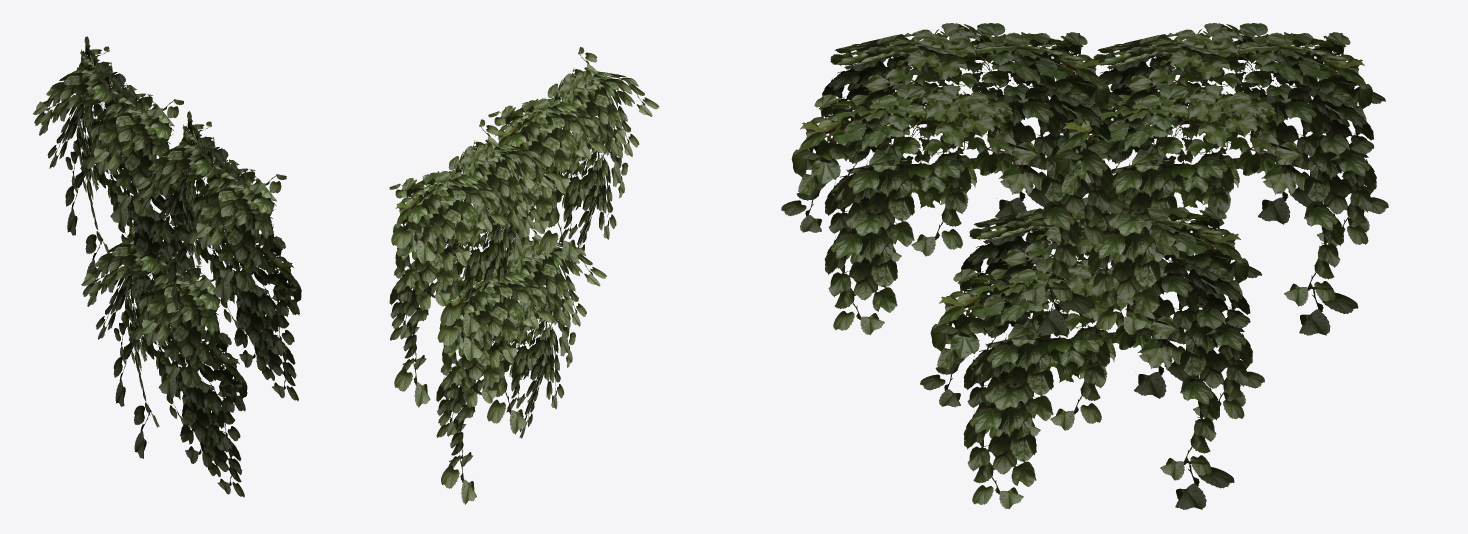
The model's file is ivy_A.fbx.
The picture shows the model from 3 angles, left to right: view 1: azimuth 30°, elevation 25°; view 2: azimuth 150°, elevation 25°; view 3: azimuth 270°, elevation 25°; orthographic projection. The views are drawn at different scales.
Parts seen in each view (by area): view 1: ivy_A; view 2: ivy_A; view 3: ivy_A.
Part boxes in pixels (x1=…): ivy_A: x1=33, y1=36, x2=301, y2=497; ivy_A: x1=389, y1=47, x2=659, y2=504; ivy_A: x1=781, y1=23, x2=1388, y2=509.
Size of the model in its own units: 5.93 by 16.8 by 22.3.
